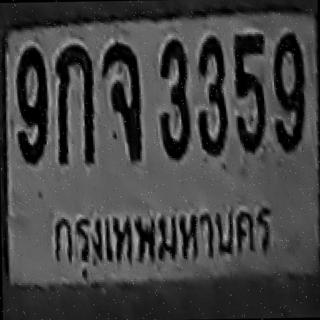A01: (54, 44, 95, 165)
A08: (101, 42, 142, 163)
N00: (15, 46, 48, 164)
N03: (158, 37, 190, 160), (196, 35, 228, 156)
N05: (233, 32, 266, 153)
N09: (272, 31, 306, 152), (15, 46, 48, 164)
P04: (45, 198, 278, 280)
